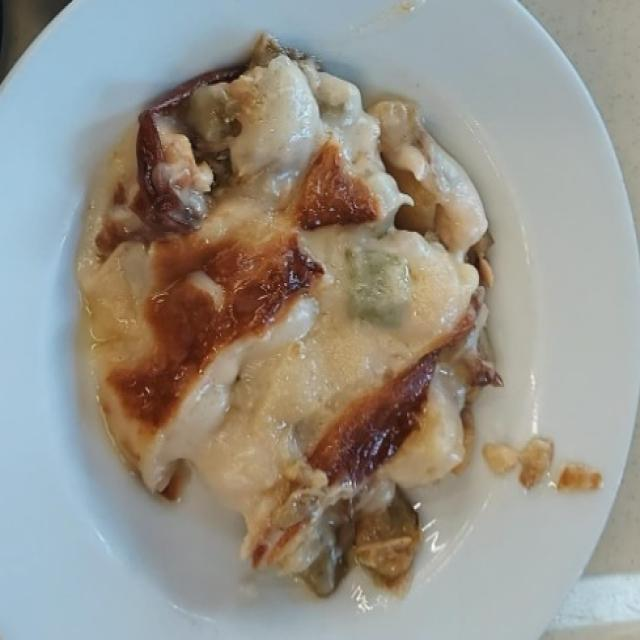ana_yemek: (73, 29, 504, 598)
